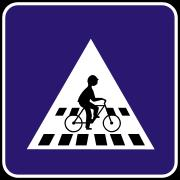Cycle Crossing: (25, 32, 162, 159)
